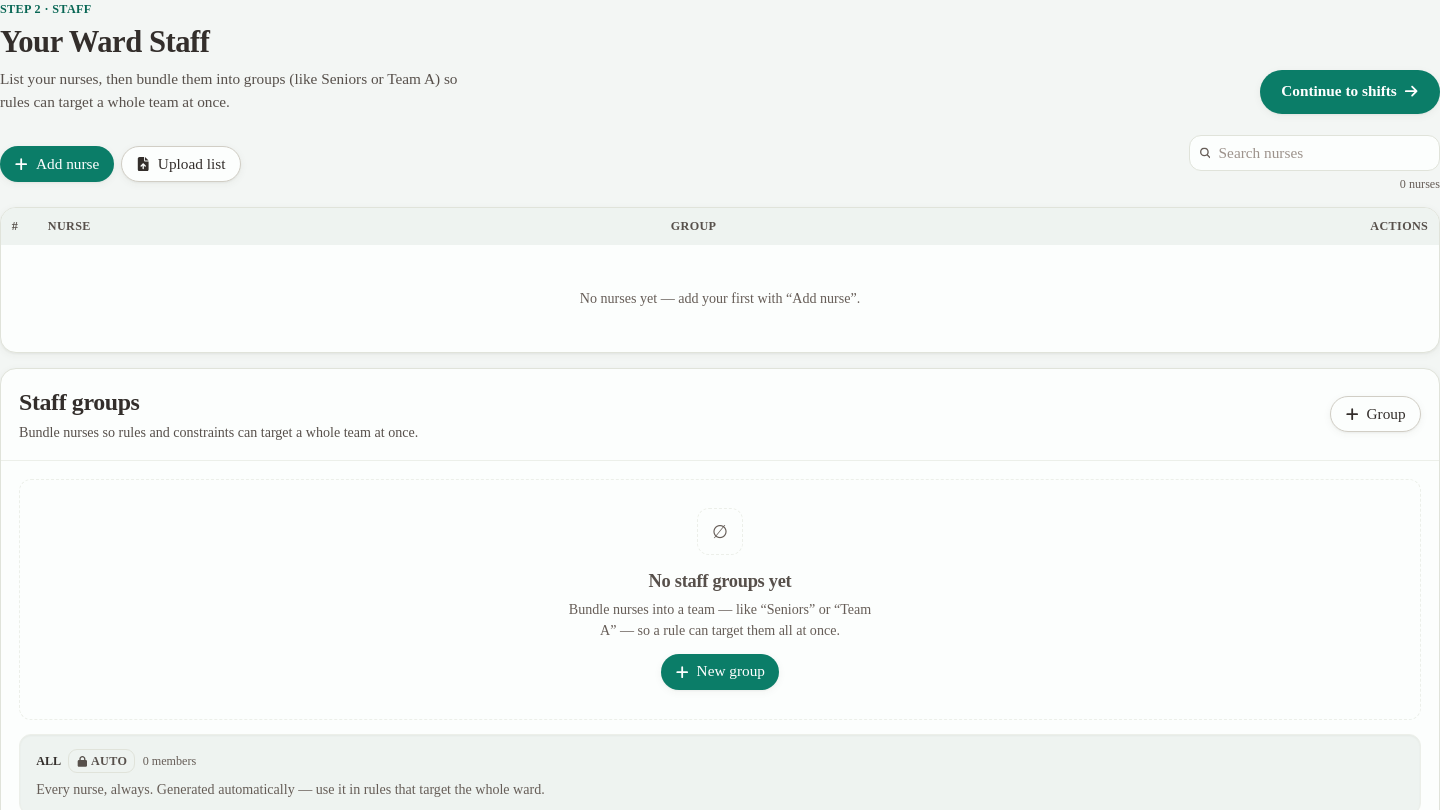
Test: PeopleTable — read + toolbar › opens the upload dialog from the toolbar
The image size is (1440, 810).
Click the button with test id "people-upload".
click(181, 164)  # box [121, 146, 241, 182]
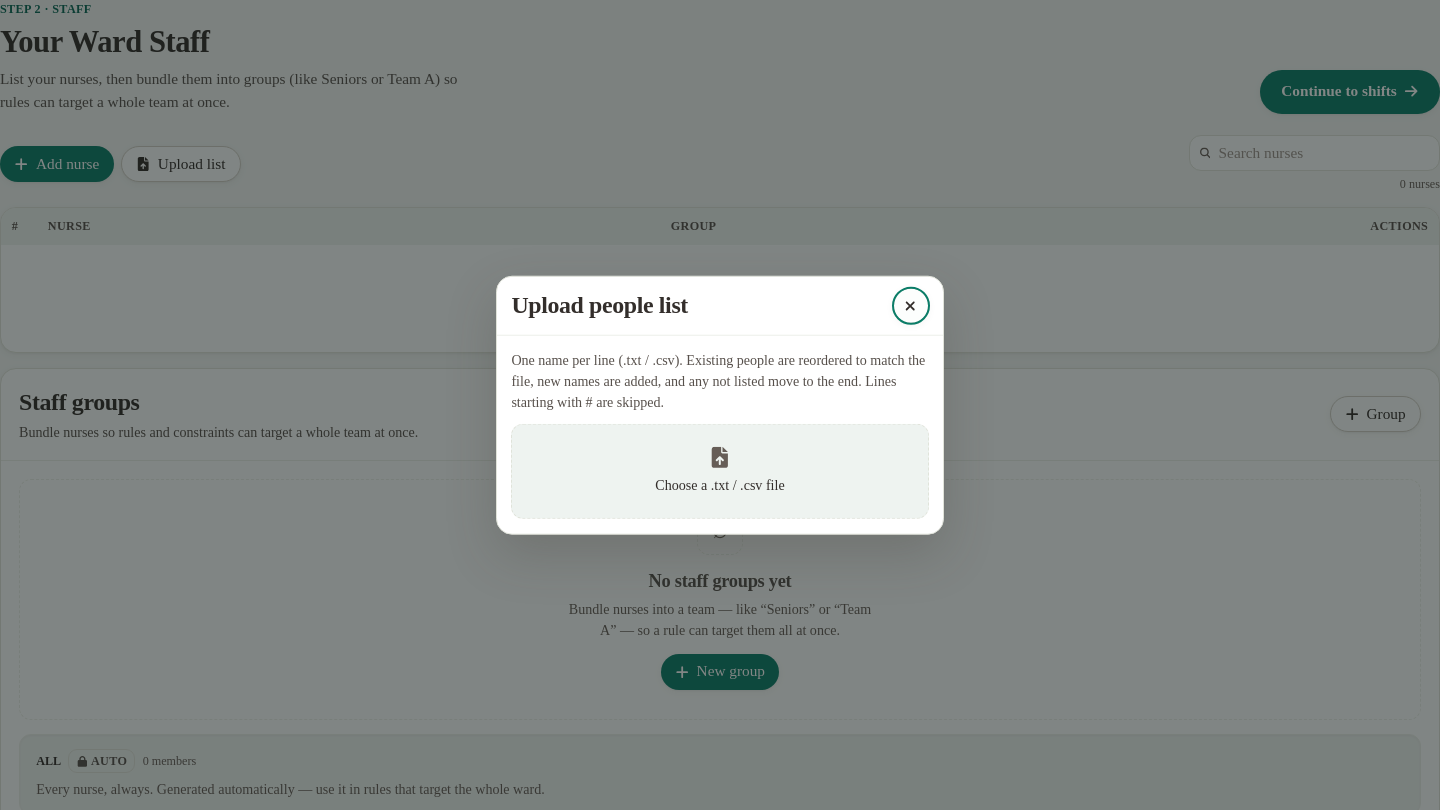
expect the dialog with test id "upload-dialog" is shown: met, box [496, 276, 944, 534]
